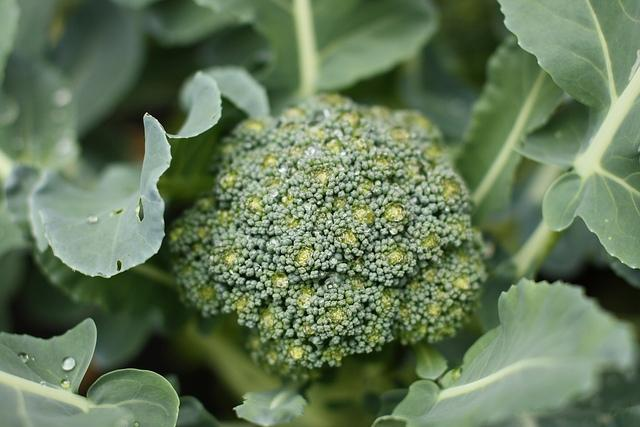broccoli: (168, 90, 490, 382)
